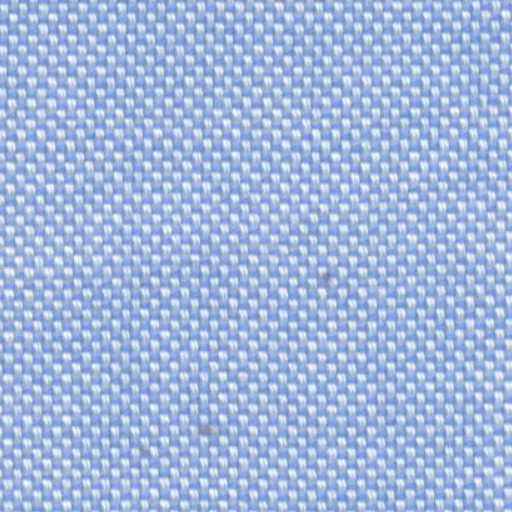WuZi: (180, 404, 233, 446), (300, 258, 348, 302)
